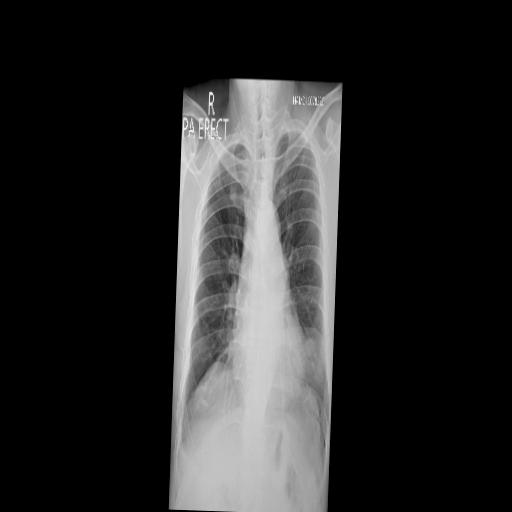kardiomegali: (226, 274, 312, 414)
